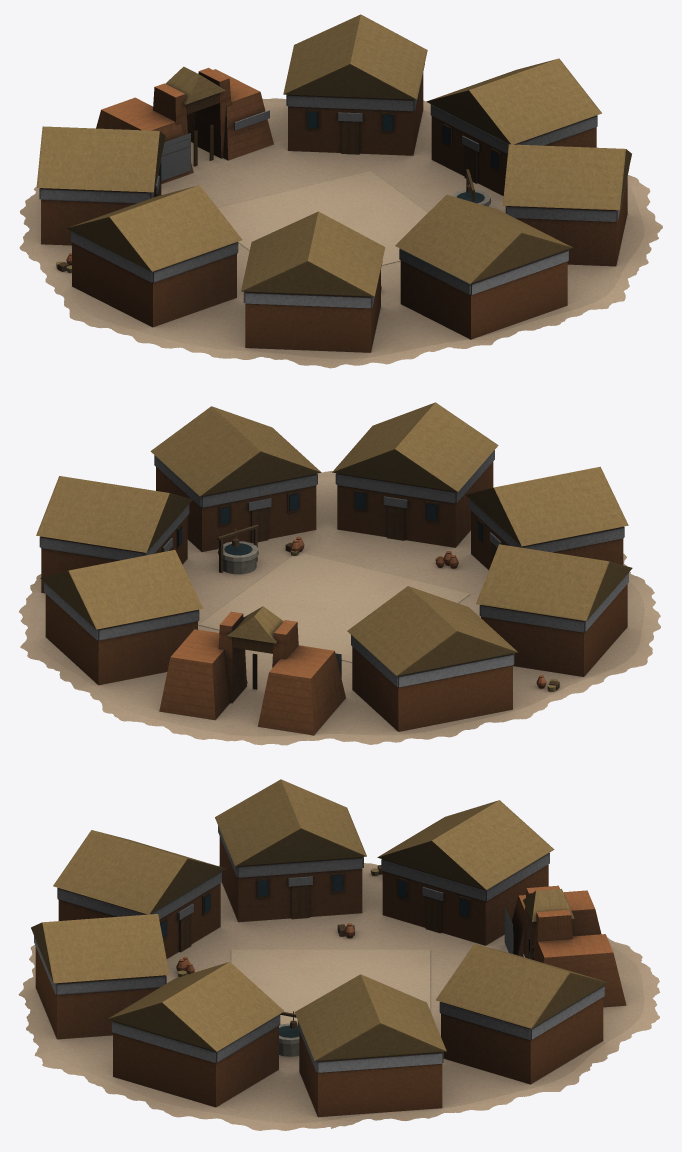
The model's file is classical-town-small-b-westafrica.glb.
The picture shows the model from 3 angles, top to bottom: view 1: azimuth 30°, elevation 25°; view 2: azimuth 150°, elevation 25°; view 3: azimuth 270°, elevation 25°; orthographic projection.
Parts seen in each view (by area): view 1: LOD0; view 2: LOD0; view 3: LOD0.
Part boxes in pixels (x1,y1,x2,y2): LOD0: [19, 14, 662, 368]; LOD0: [19, 402, 660, 745]; LOD0: [18, 779, 659, 1130].
Size of what is drawn, in the model's own units: 4.04 by 0.6369 by 3.94.
Materials: 3 (3 with a texture image).
